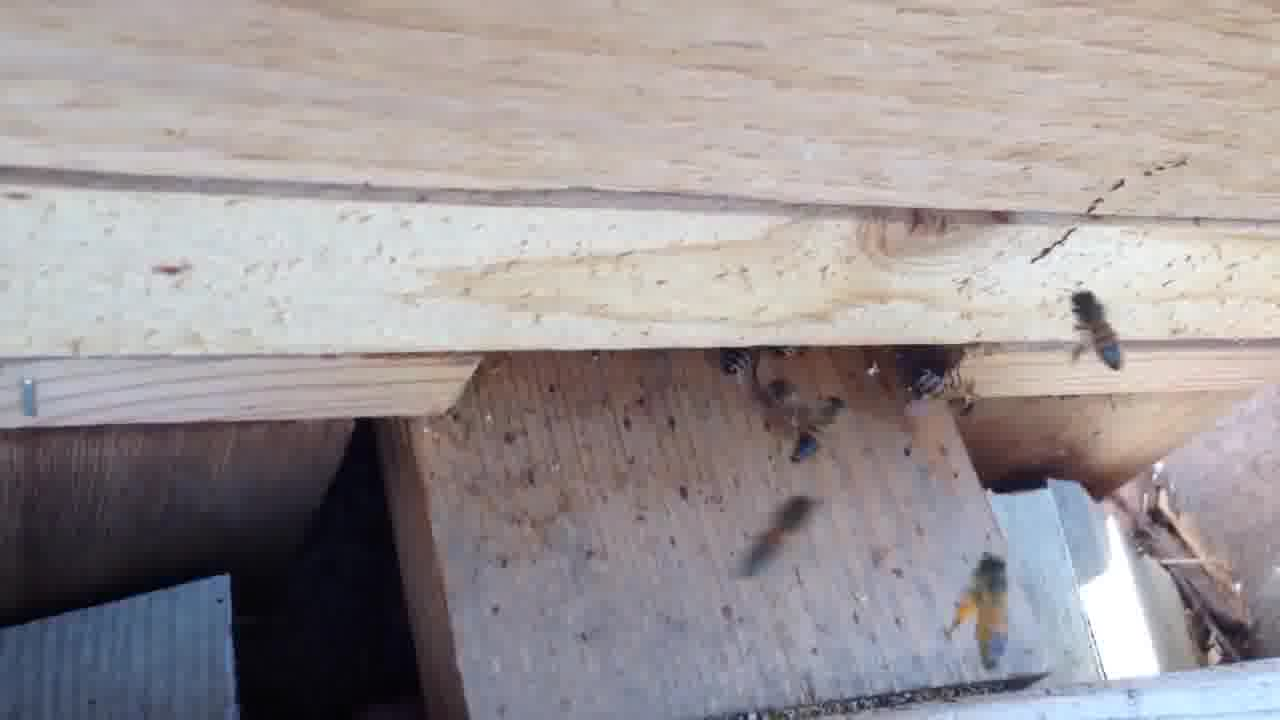pollen: (949, 545, 1013, 668)
